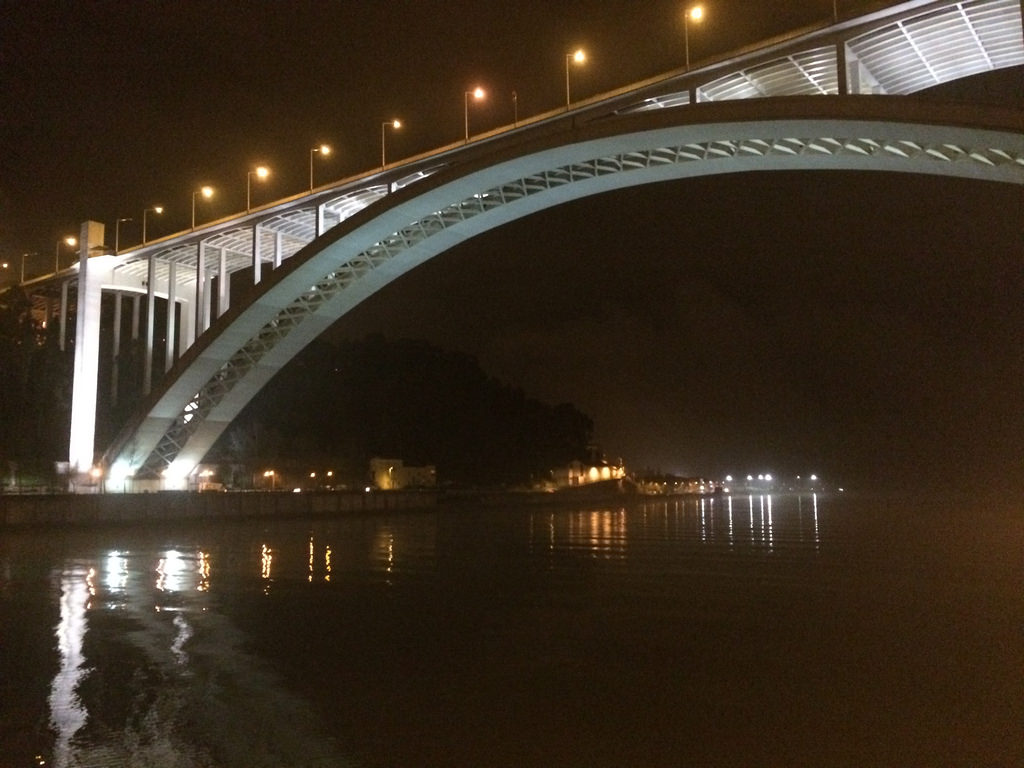arrabida: (0, 0, 1023, 493)
